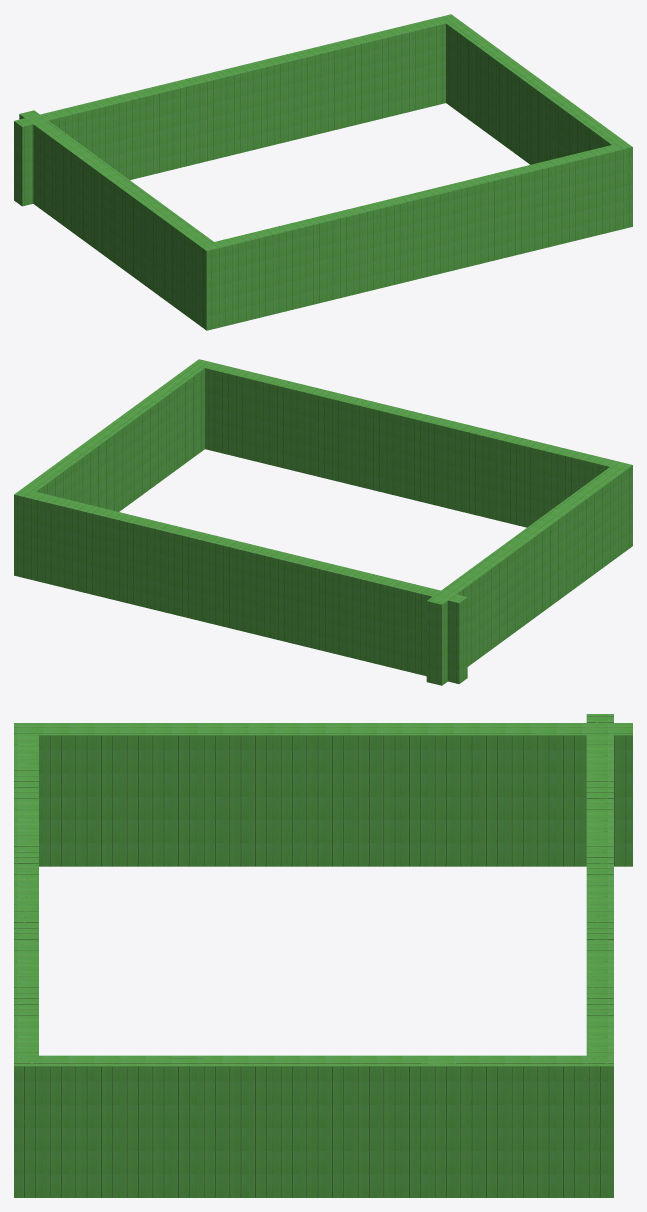
File: town3f_battle_royale_lobby.glb
The picture shows the model from 3 angles, top to bottom: view 1: azimuth 30°, elevation 25°; view 2: azimuth 150°, elevation 25°; view 3: azimuth 270°, elevation 25°; orthographic projection. The views are drawn at different scales.
Parts seen in each view (by area): view 1: Cube; view 2: Cube; view 3: Cube.
Part boxes in pixels (left/top/right/bottom): Cube: left=14, top=14, right=632, bottom=330; Cube: left=14, top=359, right=632, bottom=685; Cube: left=14, top=714, right=632, bottom=1197.
Size of the model in its own units: 32.48 by 5.65 by 24.12.
1 material, 1 textured.
